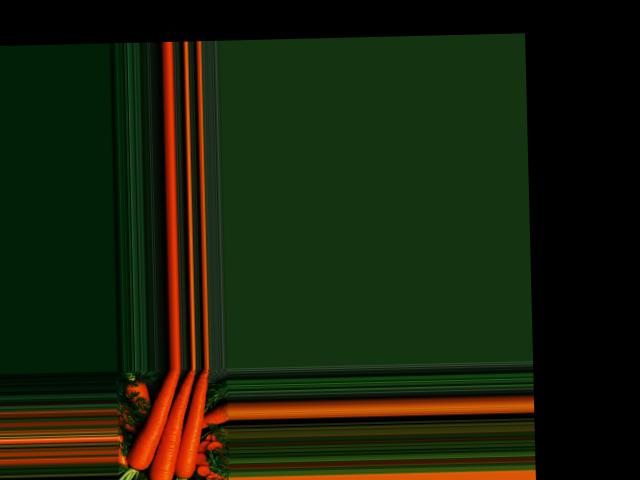carrot: (123, 371, 183, 468)
